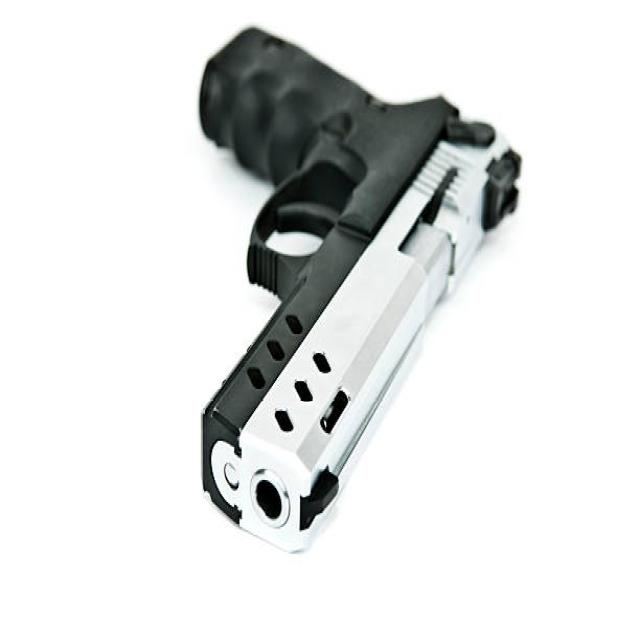pistol: (189, 22, 529, 566)
